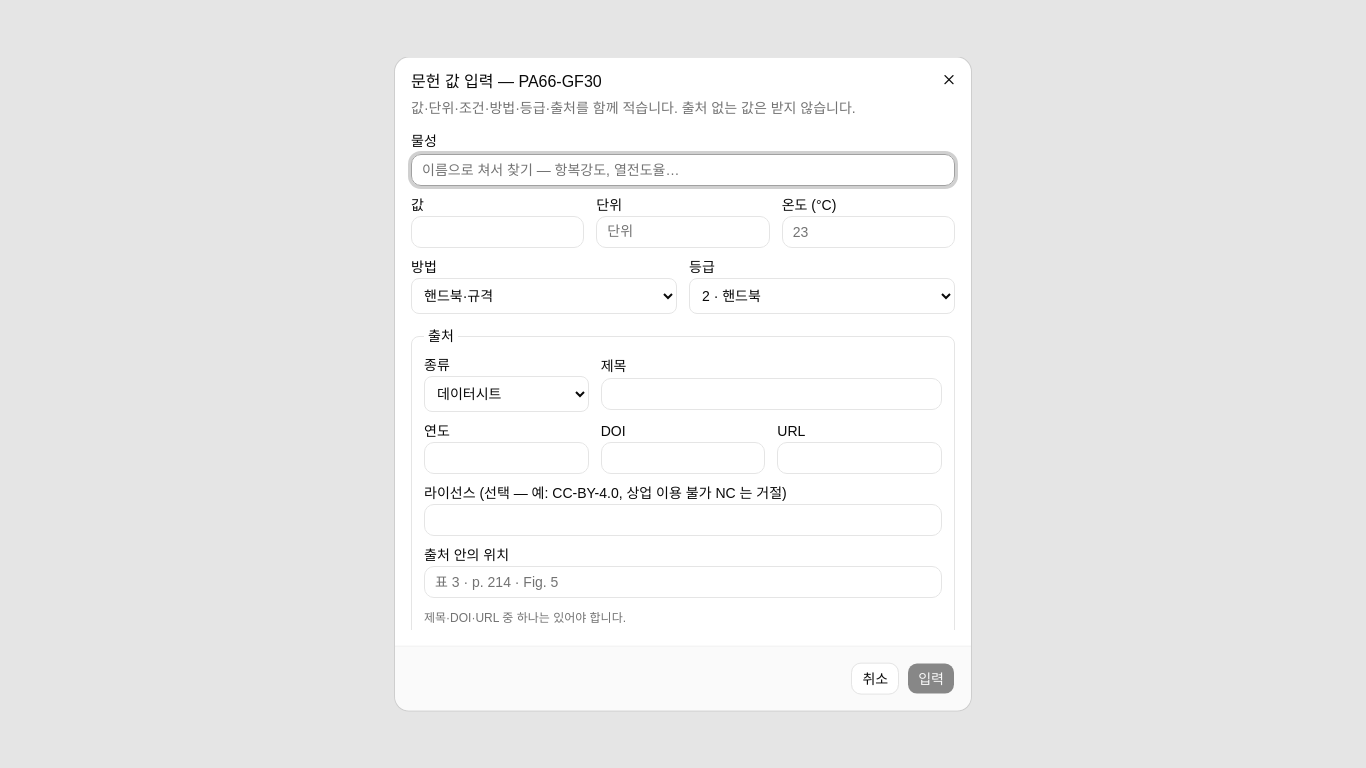
AddValueDialog › 추정·계산을 고르면 등급이 4 로 잠긴다
Select "추정" in the dropdown labelled "방법": (544, 296) [411,278,677,314]
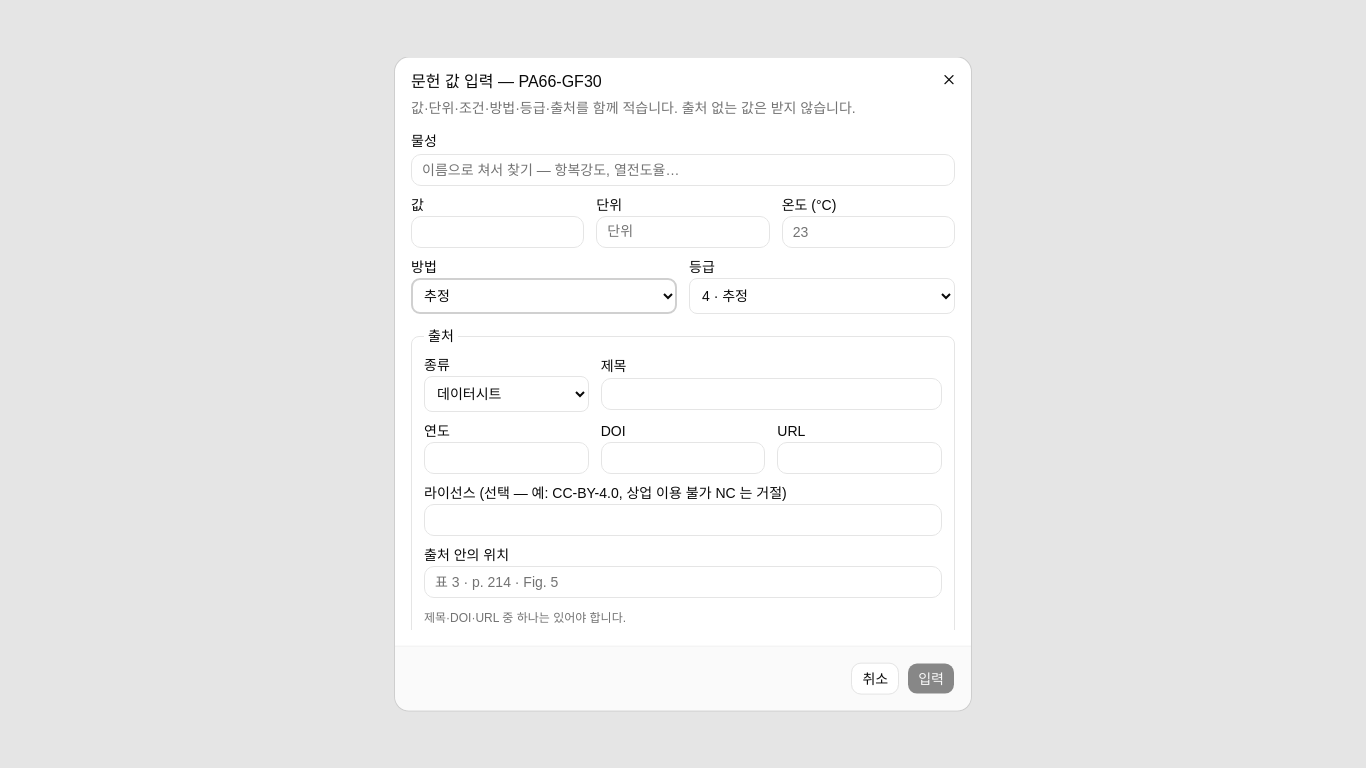
expect the dropdown labelled "등급" shows "4 · 추정": met, box [689,278,955,314]
expect the dropdown labelled "등급" is disabled: met, box [689,278,955,314]
